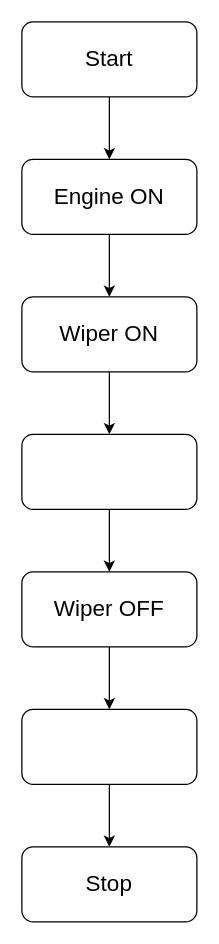
The diagram is 219 pixels wide and 944 high, and some of its shapes have lost their labels. Each missing label, with the centre of its shape:
"Engine OFF" goes at (109,746).
"Speed change" goes at (109,471).
